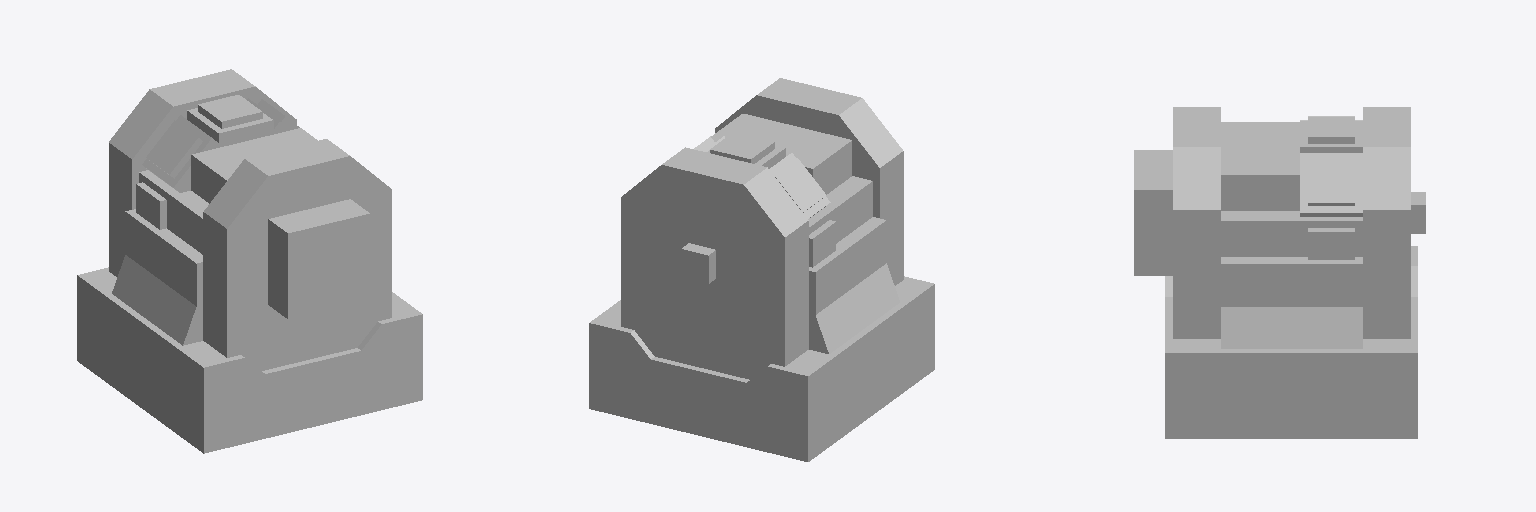
Rendered from large_motor.obj.
3 views of the same model, side by side, from view 1: azimuth 30°, elevation 25°; view 2: azimuth 150°, elevation 25°; view 3: azimuth 270°, elevation 25° (orthographic).
Parts seen in each view (by area): view 1: cube; view 2: cube; view 3: cube.
Boxes of the visible parts, x1,y1,x2,y2 form: cube: [77, 69, 422, 453]; cube: [589, 78, 934, 461]; cube: [1134, 107, 1425, 438].
Bounding box in the file's own units: 2 × 2.25 × 2.31.